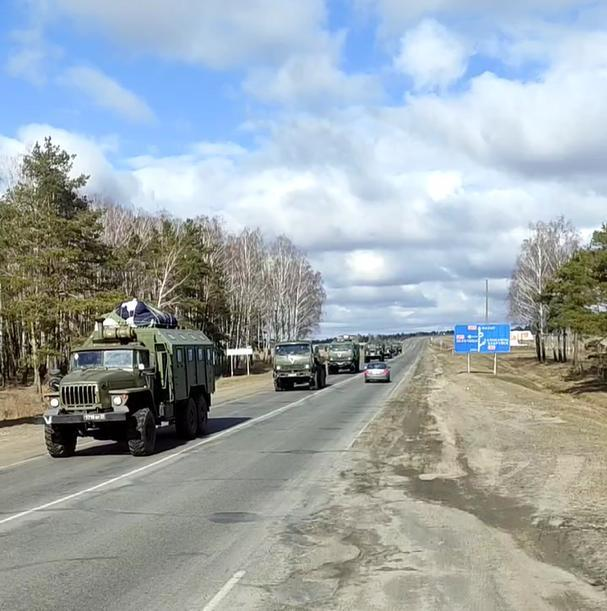car: (364, 364, 389, 386)
truck: (38, 321, 216, 462), (268, 338, 330, 400), (329, 336, 366, 380)
